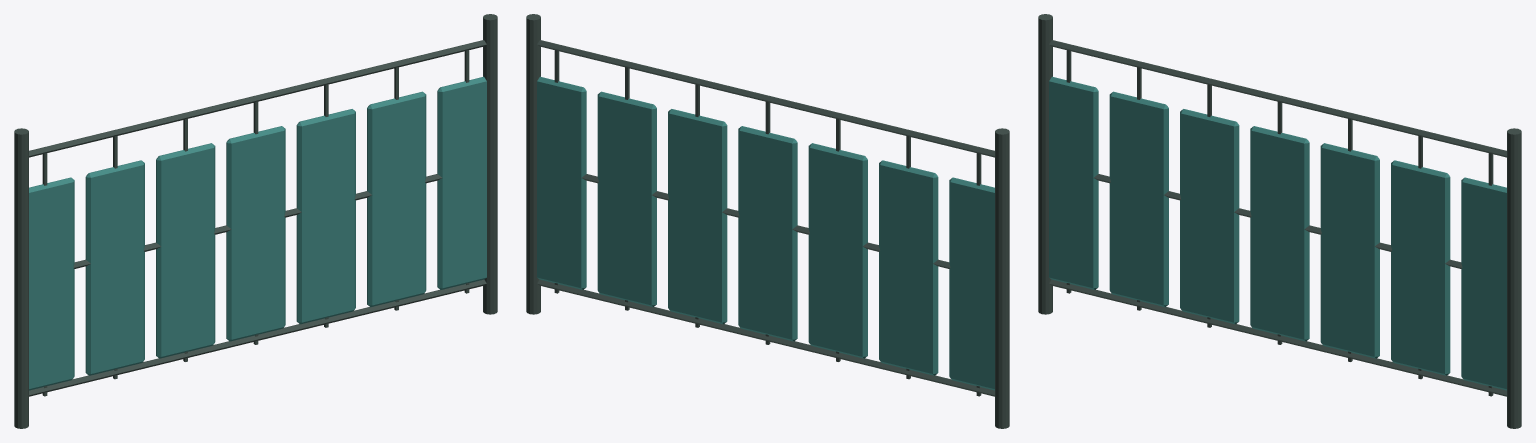
The model's file is metal_gate.glb.
3 renders of one model, left to right at view 1: azimuth 30°, elevation 25°; view 2: azimuth 150°, elevation 25°; view 3: azimuth 330°, elevation 25°, orthographic.
Visible parts, largest first — view 1: metal_gate.001; view 2: metal_gate.001; view 3: metal_gate.001.
Part boxes in pixels (x1,y1,x2,y2): metal_gate.001: [14, 14, 497, 428]; metal_gate.001: [526, 14, 1009, 428]; metal_gate.001: [1038, 14, 1521, 428].
Bounding box in the file's own units: 4.11 × 2.4 × 0.11.
